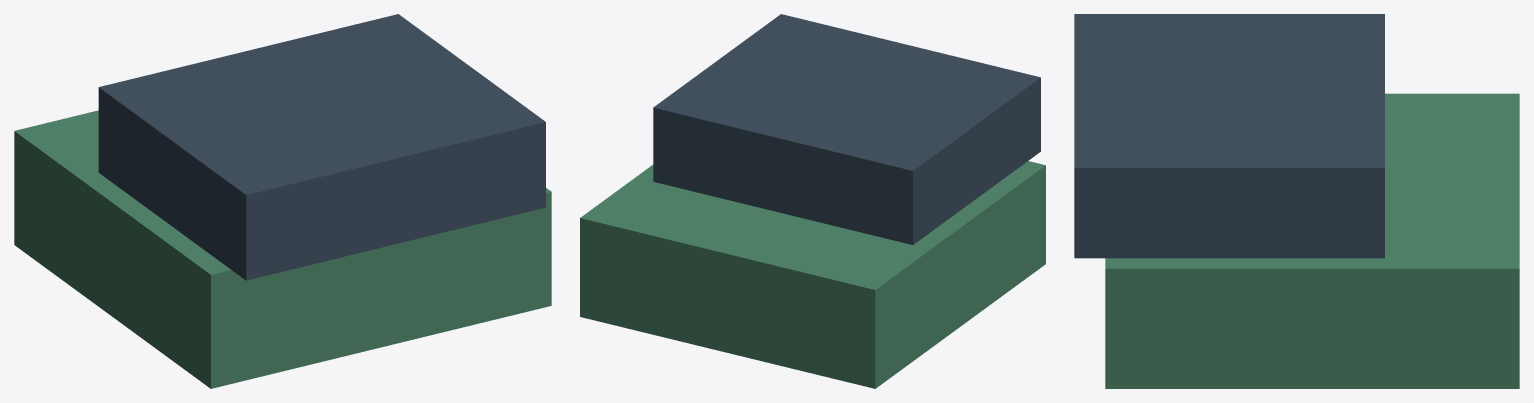
3 views of the same model, side by side, from view 1: azimuth 30°, elevation 25°; view 2: azimuth 150°, elevation 25°; view 3: azimuth 270°, elevation 25° (orthographic). The views are drawn at different scales.
Parts seen in each view (by area): view 1: ws2812b-display, ws2812b-pcb; view 2: ws2812b-pcb, ws2812b-display; view 3: ws2812b-pcb, ws2812b-display.
Boxes of the visible parts, x1,y1,x2,y2 form: ws2812b-display: (98, 14, 545, 280); ws2812b-pcb: (14, 110, 551, 388); ws2812b-pcb: (580, 161, 1045, 388); ws2812b-display: (653, 14, 1040, 244); ws2812b-pcb: (1105, 93, 1519, 388); ws2812b-display: (1074, 14, 1384, 258).
Bounding box in the file's own units: 0.005 × 0.0028 × 0.00537.
